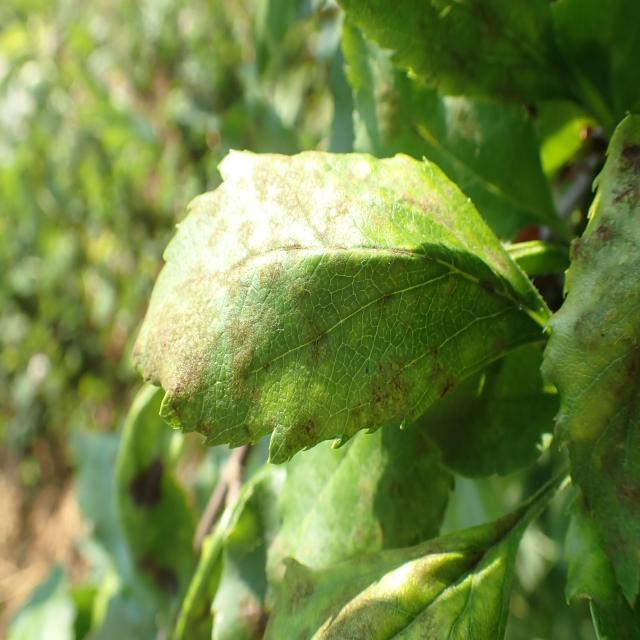scab: (140, 146, 510, 408), (559, 81, 640, 608)
